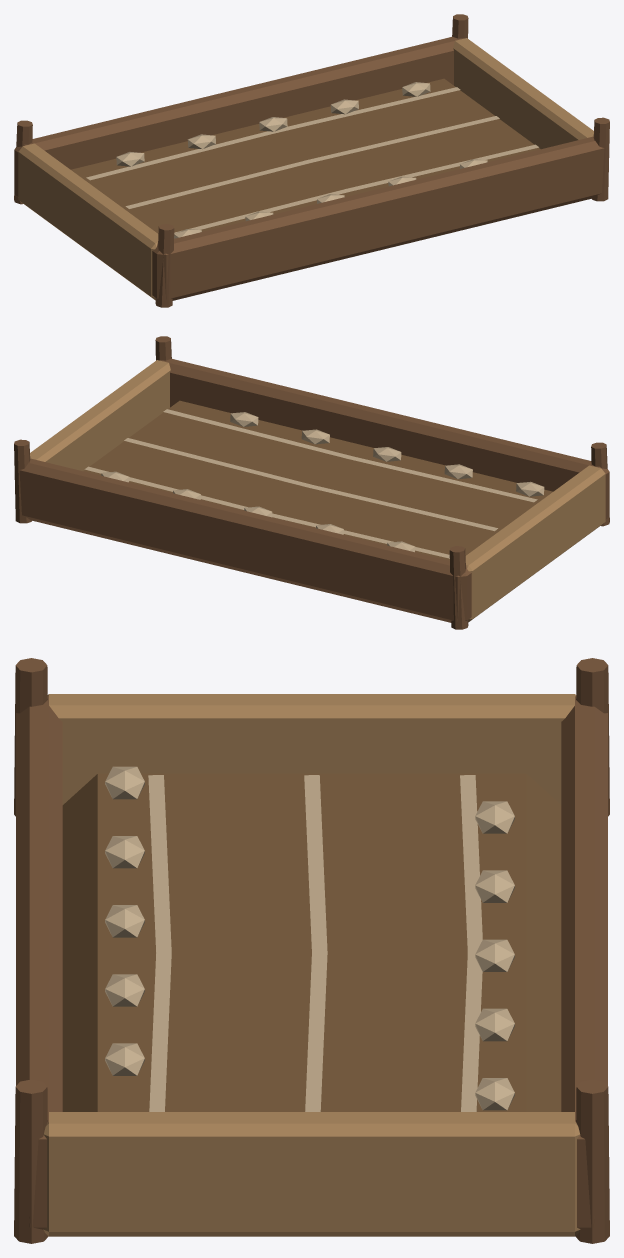
3 views of the same model, one above another, from view 1: azimuth 30°, elevation 25°; view 2: azimuth 150°, elevation 25°; view 3: azimuth 270°, elevation 25° (orthographic). The views are drawn at different scales.
Parts seen in each view (by area): view 1: GF-002 Raised planting bed batched; view 2: GF-002 Raised planting bed batched; view 3: GF-002 Raised planting bed batched.
Boxes of the visible parts, <box> form: GF-002 Raised planting bed batched: <box>14,14,609,307</box>; GF-002 Raised planting bed batched: <box>14,336,609,629</box>; GF-002 Raised planting bed batched: <box>14,658,609,1243</box>.
Size of the model in its own units: 2.67 by 0.433 by 1.53.
